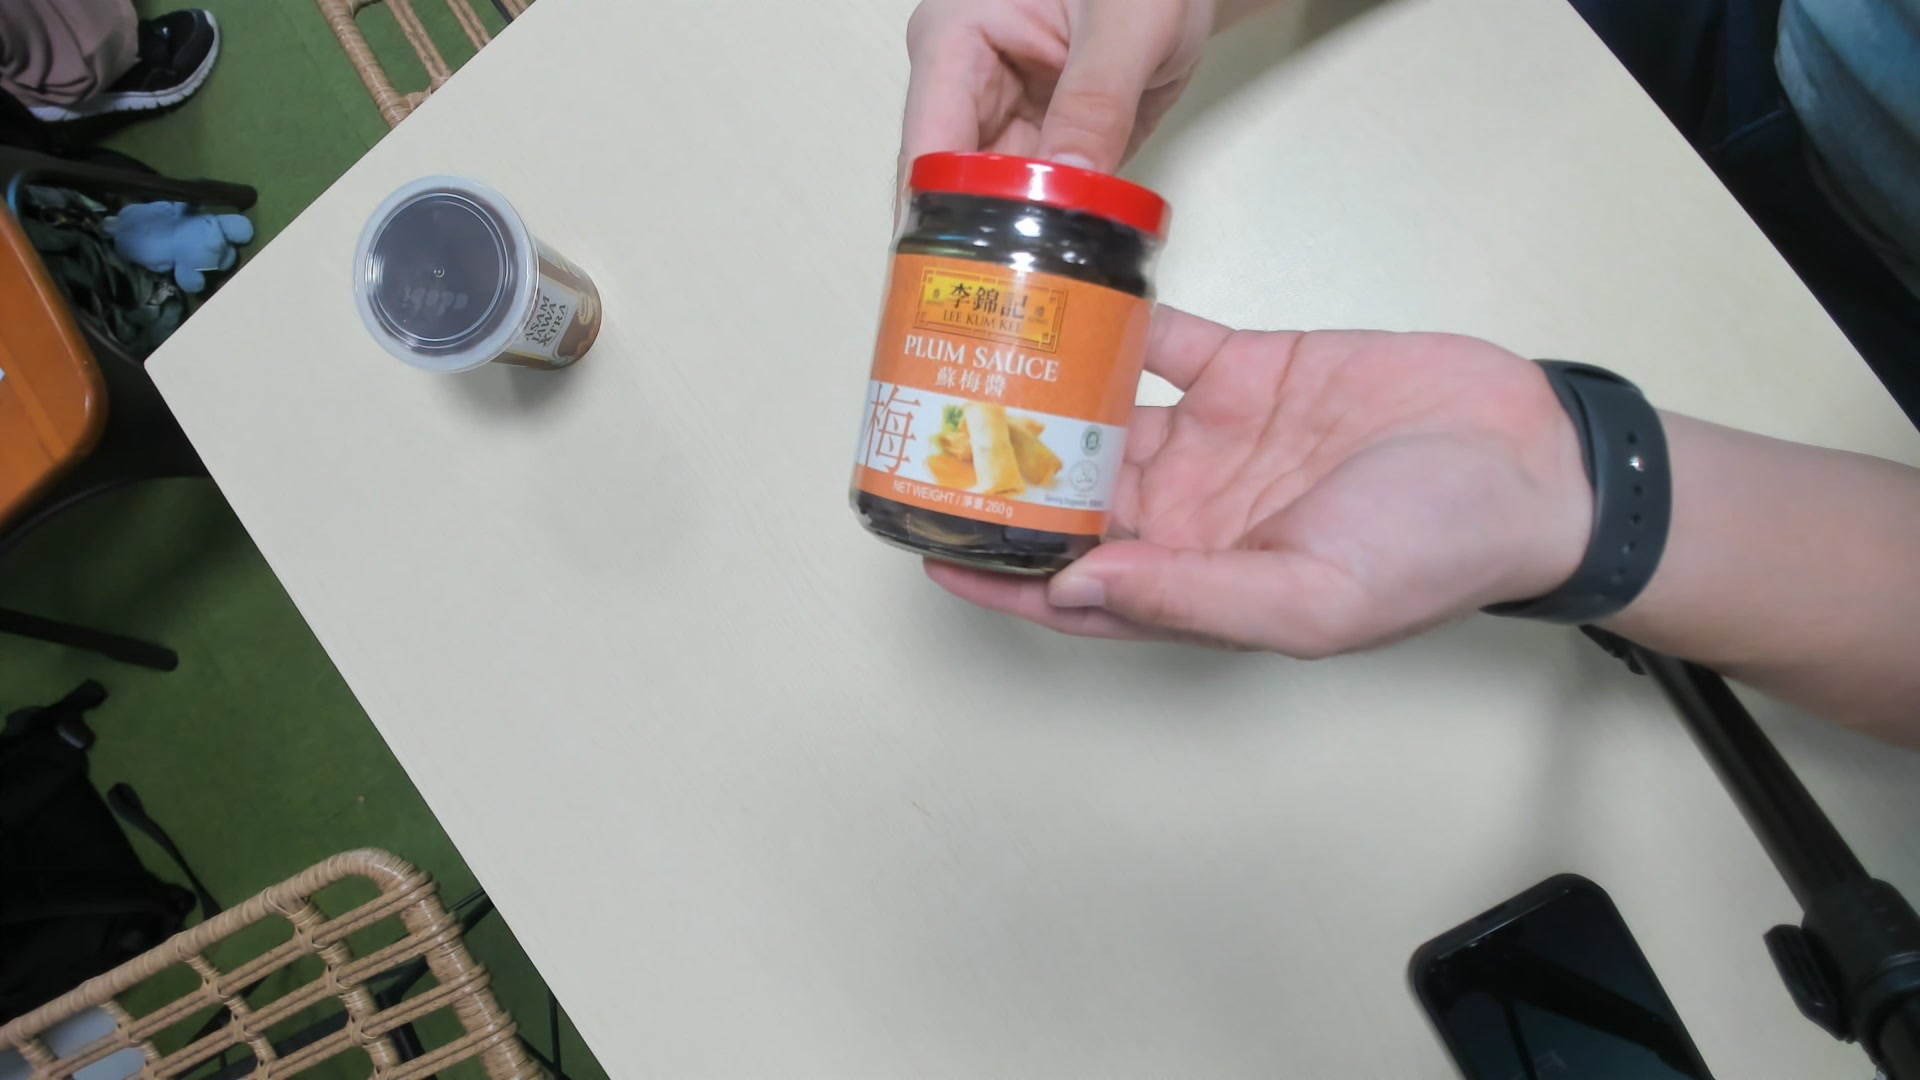OtherSauceDressing_200-299g_Halal_NonHealthy: (853, 149, 1174, 585)
